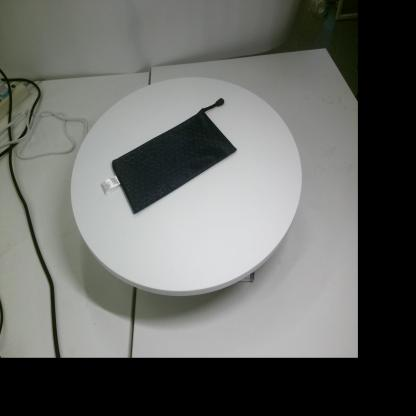Stationery: (101, 98, 237, 214)
